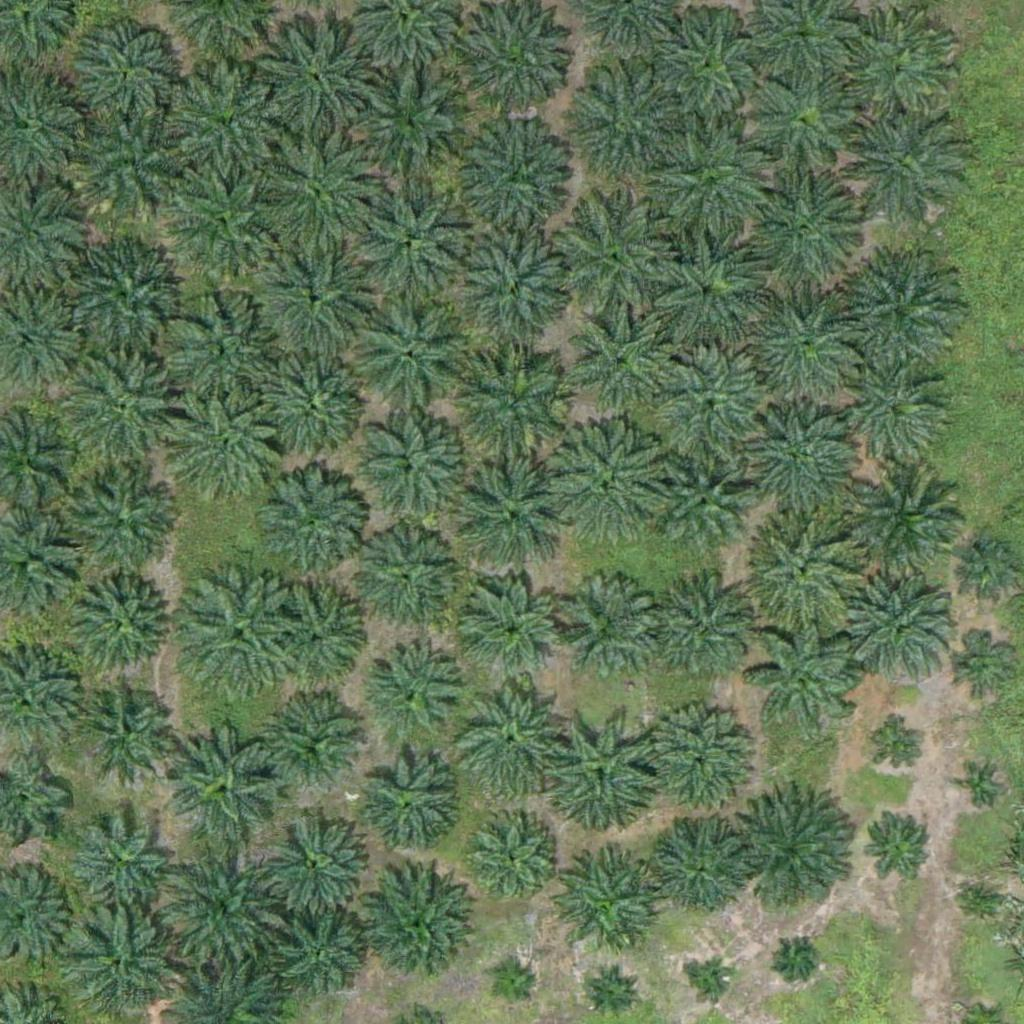Kelapa_Sawit: (649, 4, 774, 130), (836, 6, 961, 132), (62, 233, 187, 359), (58, 344, 183, 470), (166, 389, 291, 515), (159, 291, 284, 417), (251, 128, 376, 254), (253, 232, 378, 358), (249, 339, 374, 465), (245, 460, 370, 586), (347, 410, 472, 536), (347, 293, 472, 419), (457, 114, 582, 240), (453, 340, 578, 466), (452, 456, 577, 582), (550, 196, 675, 322), (557, 64, 682, 190), (646, 127, 771, 253), (640, 230, 765, 356), (648, 352, 773, 478), (735, 403, 860, 529), (743, 289, 868, 415), (738, 168, 863, 294), (840, 106, 965, 232), (836, 251, 961, 377), (847, 471, 972, 597), (541, 710, 666, 836), (449, 676, 574, 802), (174, 571, 299, 697), (159, 841, 284, 967), (252, 14, 377, 139), (353, 176, 478, 301), (353, 64, 478, 189), (453, 227, 578, 352), (548, 423, 673, 548), (737, 791, 862, 916), (358, 872, 471, 986), (166, 62, 279, 175), (68, 17, 181, 130), (75, 115, 188, 228), (749, 618, 862, 731), (638, 704, 751, 817), (67, 910, 180, 1023), (259, 802, 371, 916), (169, 722, 281, 836), (63, 471, 175, 584), (846, 578, 958, 691), (750, 513, 862, 626), (547, 854, 659, 967), (174, 168, 274, 269), (573, 314, 673, 415), (847, 366, 947, 467), (648, 815, 748, 916), (654, 580, 754, 681), (553, 579, 653, 680), (463, 582, 563, 683), (462, 809, 562, 910), (351, 529, 451, 630), (363, 645, 463, 746), (265, 578, 365, 679), (71, 811, 171, 912), (754, 76, 854, 176), (355, 754, 455, 854), (268, 693, 368, 793), (68, 573, 168, 673), (77, 681, 177, 781), (277, 913, 365, 1001), (658, 462, 745, 551), (861, 807, 936, 882), (948, 634, 1011, 697), (958, 536, 1021, 599), (875, 724, 925, 775), (586, 967, 636, 1017), (487, 962, 537, 1012), (777, 937, 815, 975), (694, 963, 731, 1001), (961, 771, 998, 808), (965, 881, 1002, 918)
